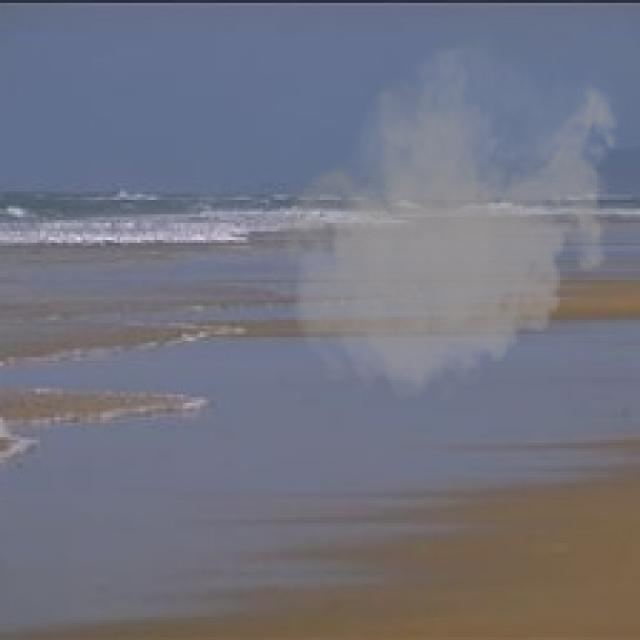smoke: (260, 23, 629, 411)
